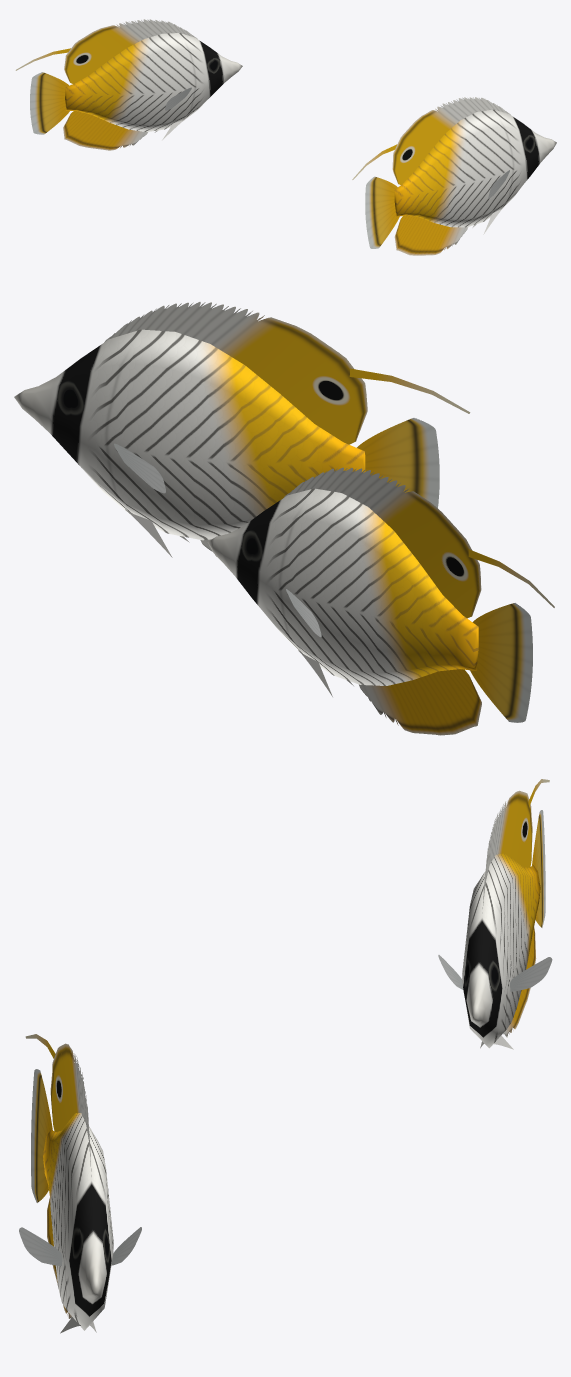
Rendered from Fish_Butterfly.gltf.
3 renders of one model, top to bottom at view 1: azimuth 30°, elevation 25°; view 2: azimuth 150°, elevation 25°; view 3: azimuth 270°, elevation 25°, orthographic. The views are drawn at different scales.
Visible parts, largest first — view 1: Fish_Butterfly; view 2: Fish_Butterfly; view 3: Fish_Butterfly.
Part boxes in pixels (x1=…): Fish_Butterfly: x1=15, y1=19, x2=556, y2=255; Fish_Butterfly: x1=14, y1=302, x2=554, y2=735; Fish_Butterfly: x1=19, y1=779, x2=552, y2=1333.
Size of the model in its own units: 0.2907 by 0.136 by 0.1826.
1 material, 1 textured.
